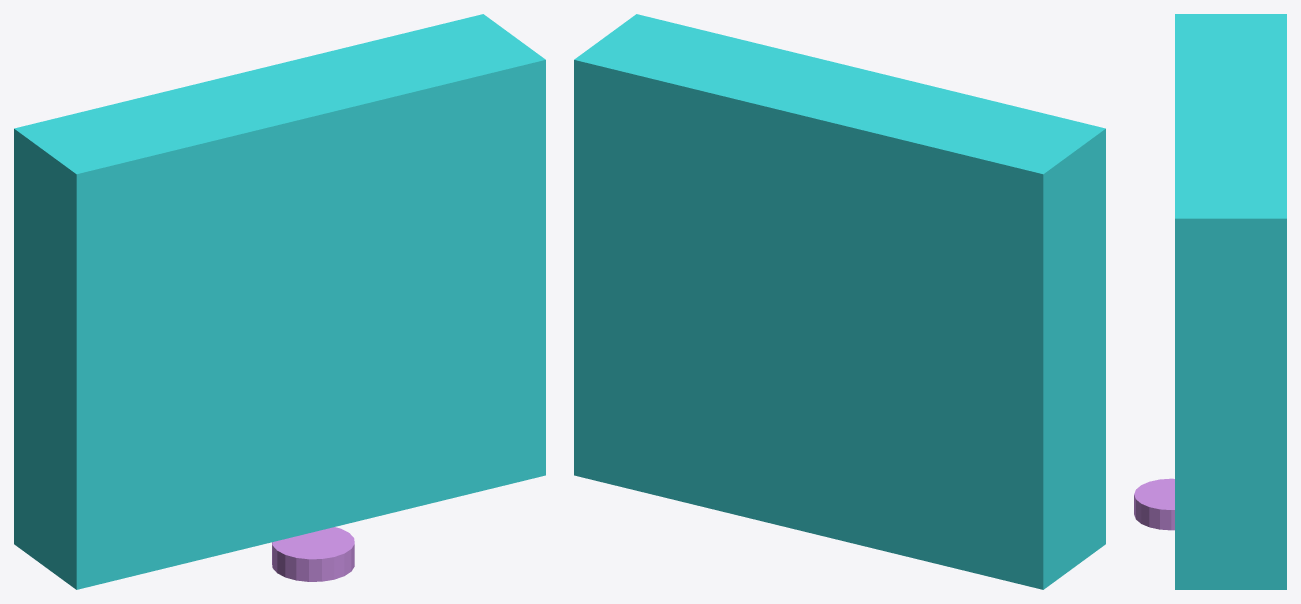
File: smart-hub.glb
3 views of the same model, side by side, from view 1: azimuth 30°, elevation 25°; view 2: azimuth 150°, elevation 25°; view 3: azimuth 270°, elevation 25° (orthographic). The views are drawn at different scales.
Visible parts, largest first — view 1: world; view 2: world; view 3: world.
Boxes of the visible parts, left/top/right/bottom form: world: left=14, top=14, right=545, bottom=589; world: left=574, top=14, right=1105, bottom=589; world: left=1134, top=14, right=1286, bottom=589.
Bounding box in the file's own units: 0.65 × 0.59 × 0.205.
